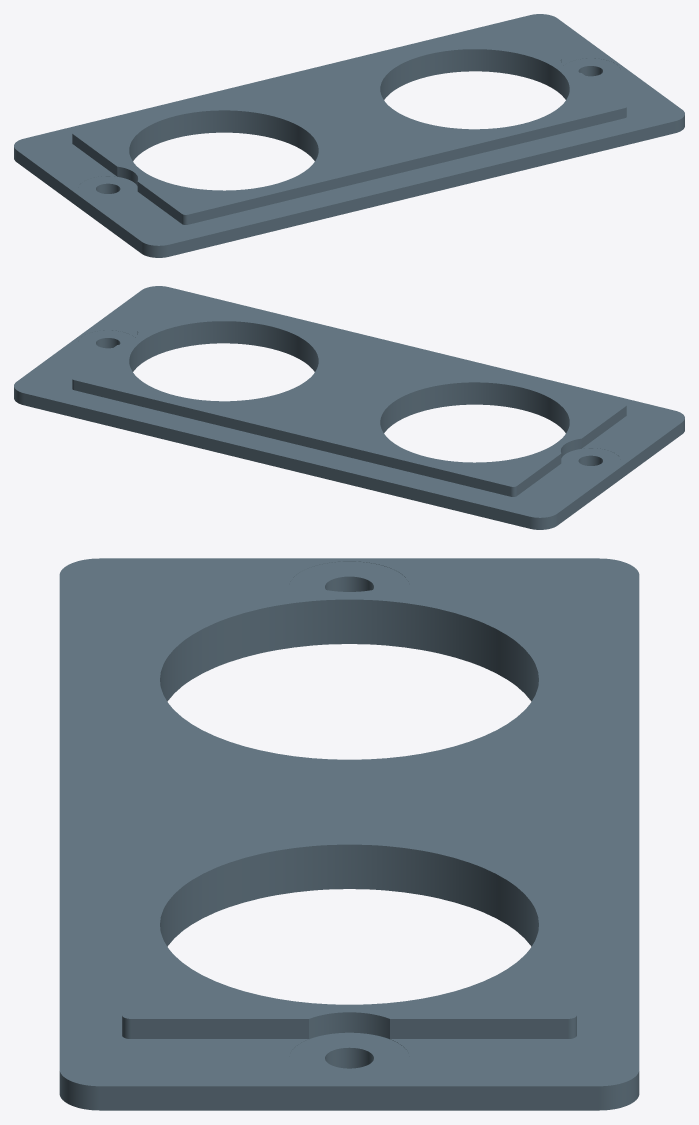
File: sensor_mask.glb
3 renders of one model, top to bottom at view 1: azimuth 30°, elevation 25°; view 2: azimuth 150°, elevation 25°; view 3: azimuth 270°, elevation 25°, orthographic. The views are drawn at different scales.
Parts seen in each view (by area): view 1: sensor_mask; view 2: sensor_mask; view 3: sensor_mask.
Boxes of the visible parts, box(x1,y1,x2,y2) form: sensor_mask: box(14, 14, 684, 257); sensor_mask: box(14, 286, 684, 529); sensor_mask: box(59, 558, 639, 1110).
Bounding box in the file's own units: 0.056 × 0.0022 × 0.026.
